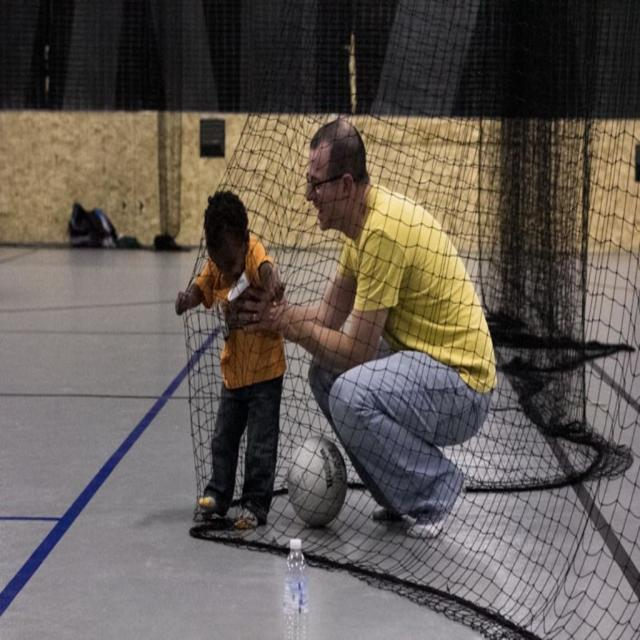Ball: (288, 435, 348, 527)
